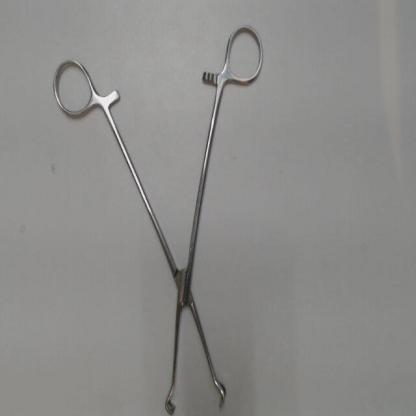8 Babcock Tissue Forceps: (48, 16, 270, 414)
